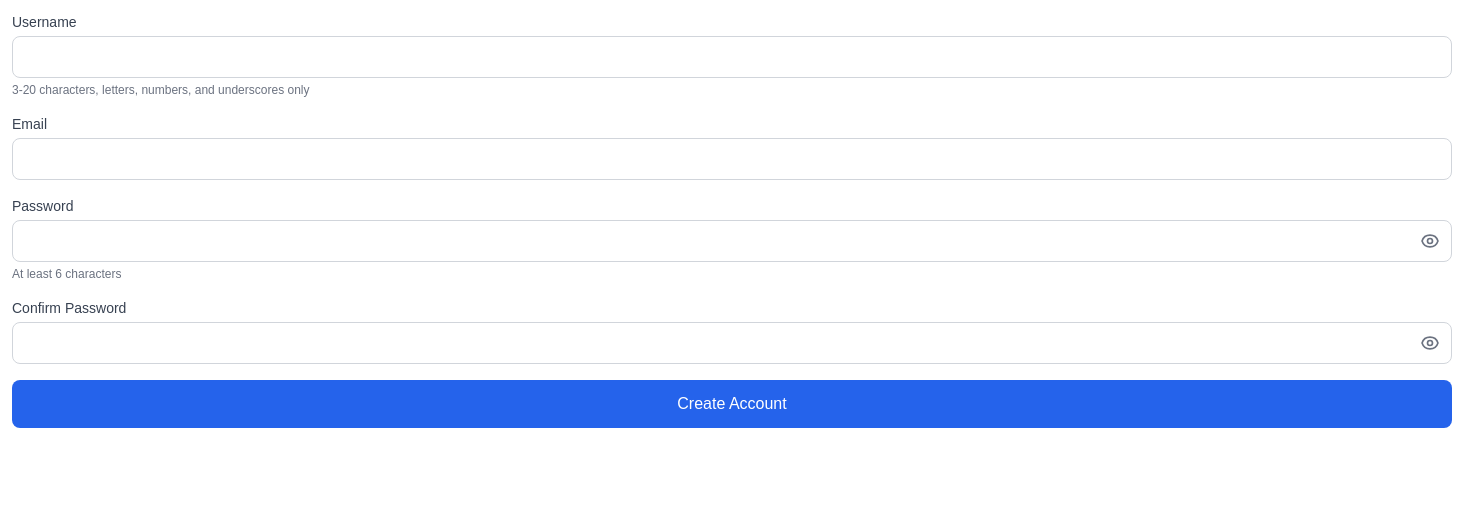
Test case: SignupForm › validates username length
In the field labelled "Username": x=732, y=57 x1=12 y1=36 x2=1452 y2=78, type "ab"
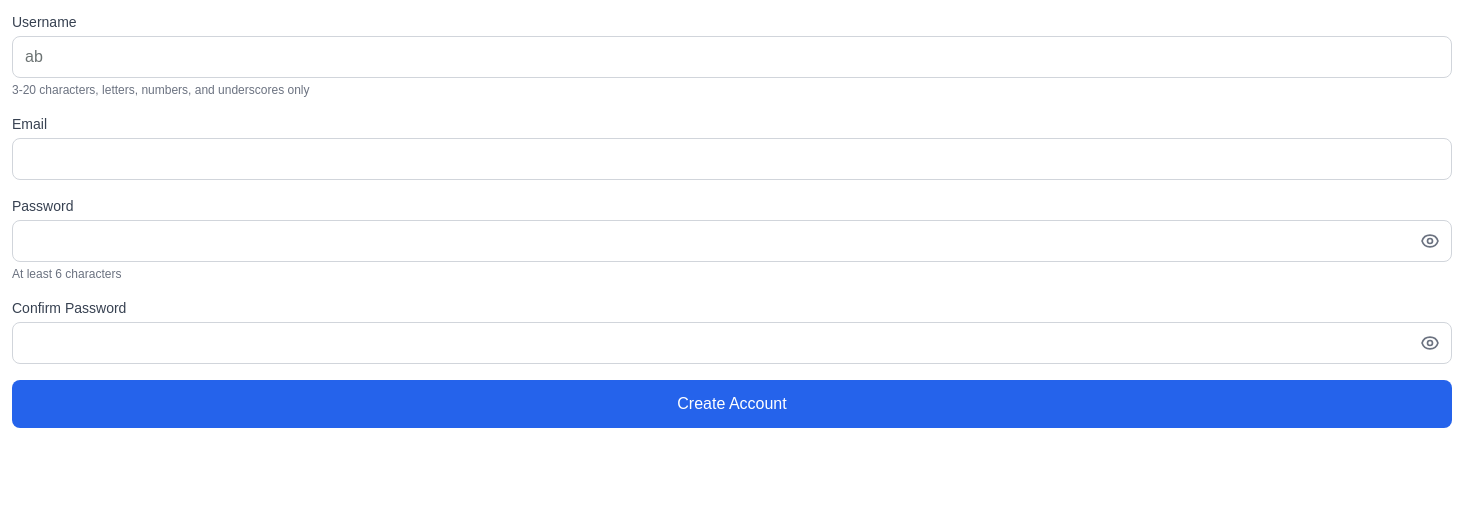
In the field labelled "Email": x=732, y=159 x1=12 y1=138 x2=1452 y2=180, type "test@example.com"
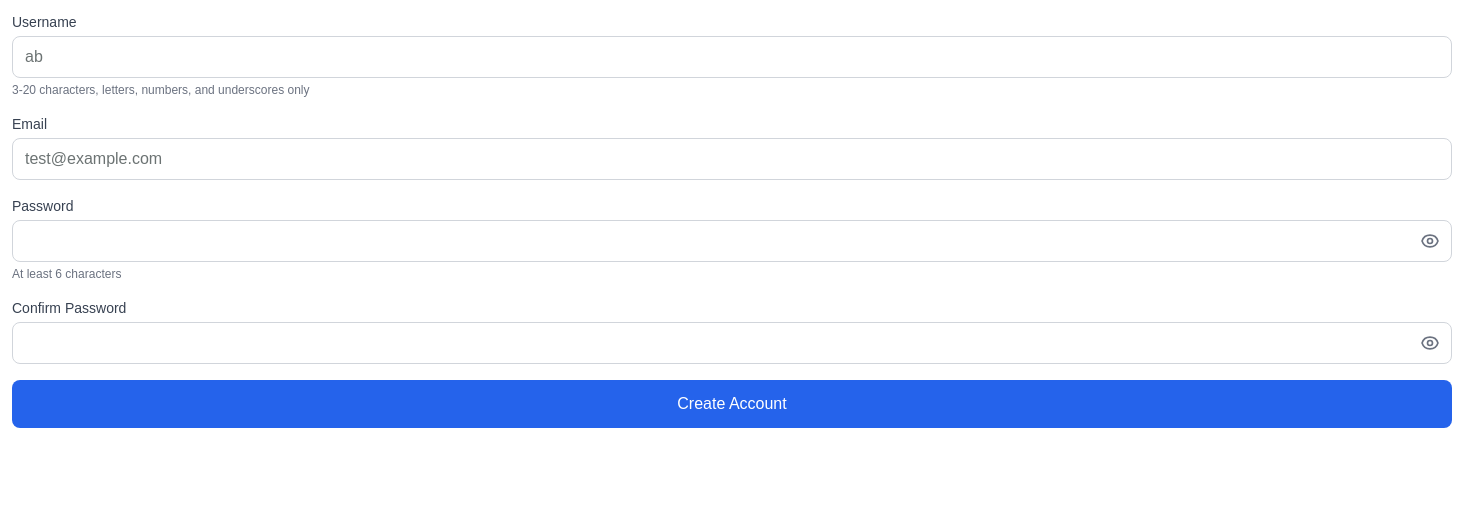
In the password field labelled "Password": x=732, y=241 x1=12 y1=220 x2=1452 y2=262, type "password123"
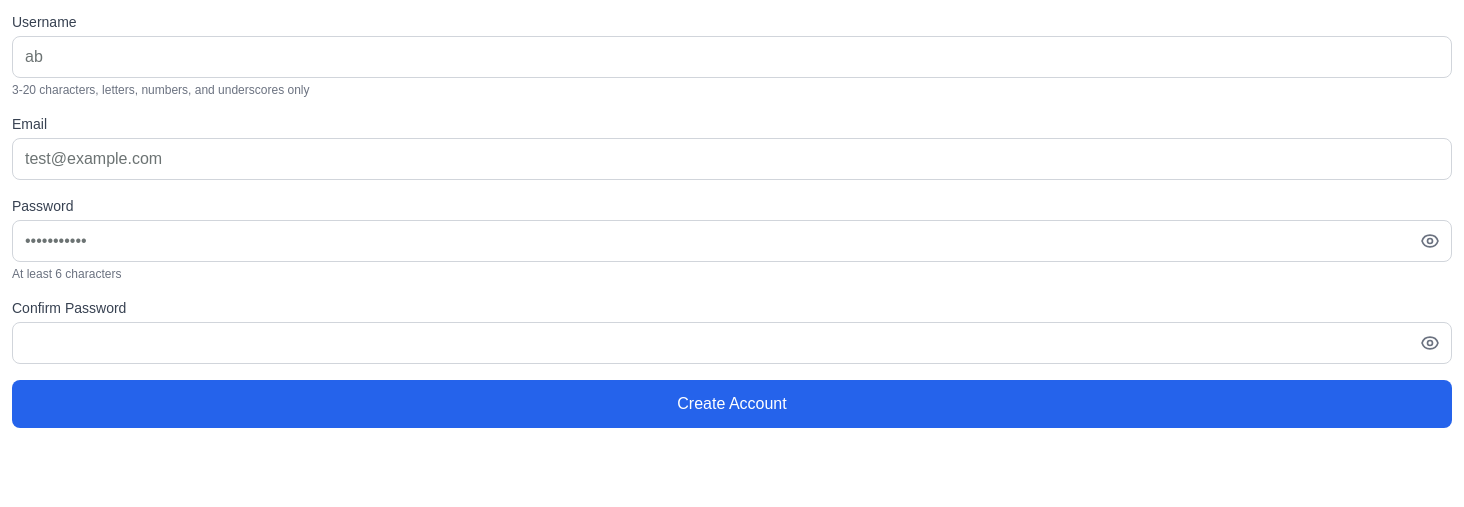
In the password field labelled "Confirm Password": x=732, y=343 x1=12 y1=322 x2=1452 y2=364, type "password123"
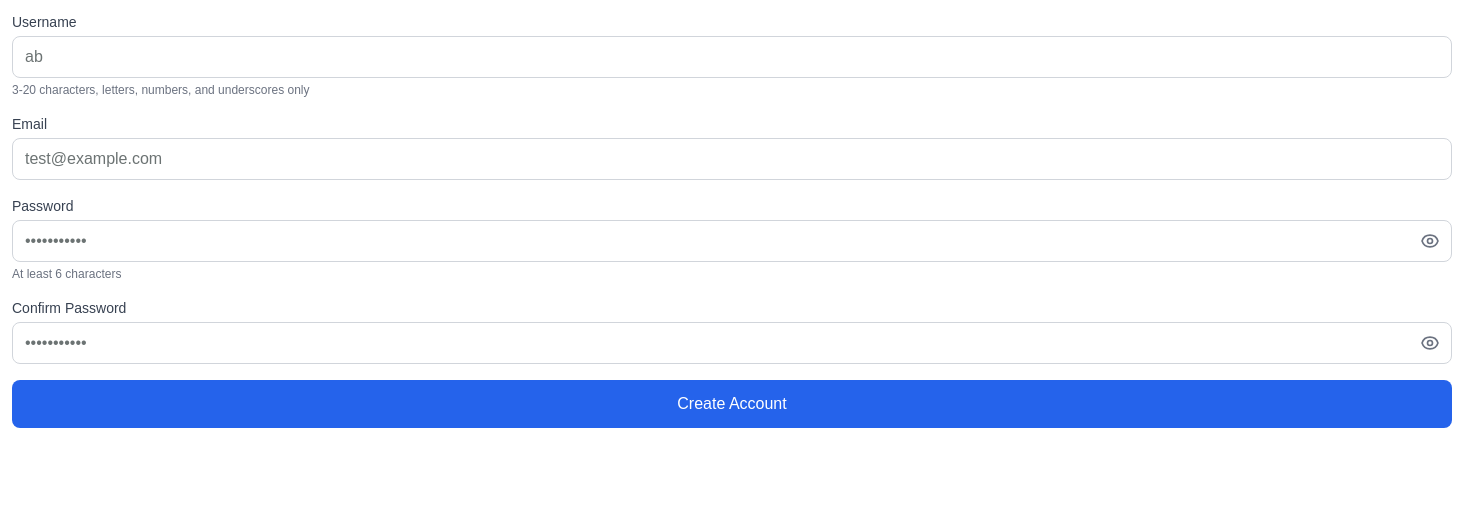
Click the button "Create Account": x=732, y=404 x1=12 y1=380 x2=1452 y2=428
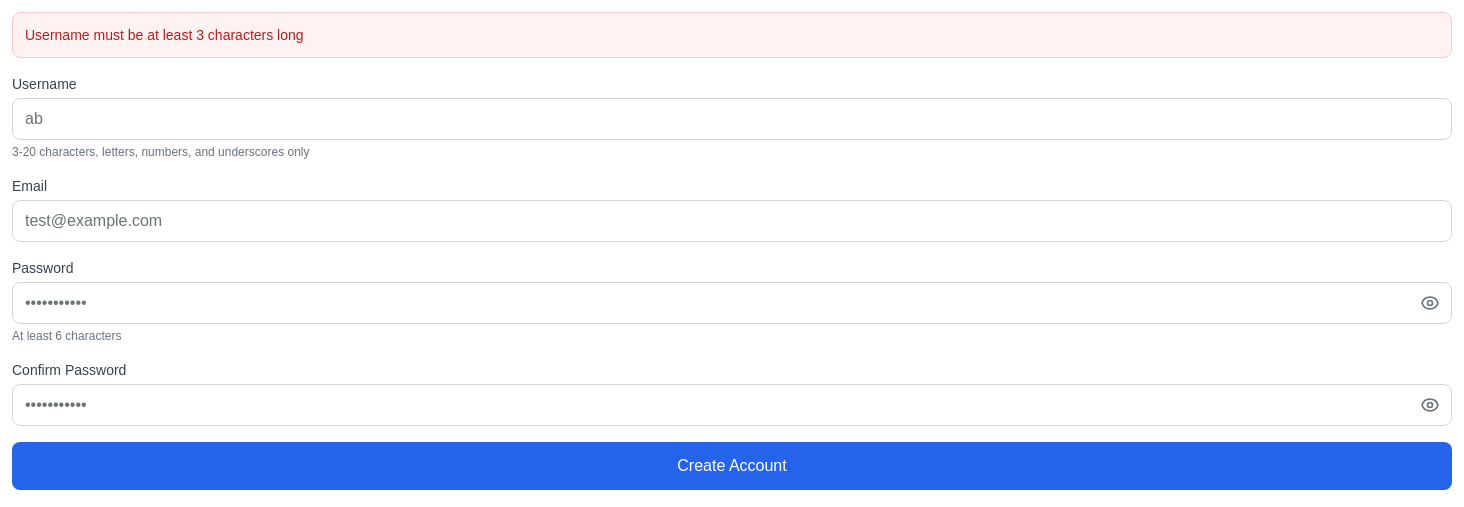
Now the text "Username must be at least 3 characters long" is shown, box x1=12 y1=12 x2=1452 y2=58
